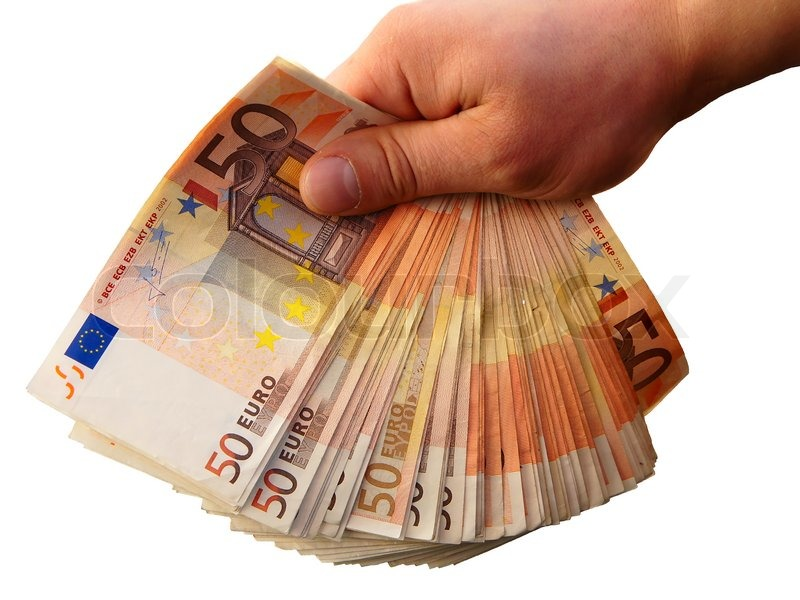billete: (23, 53, 692, 571)
